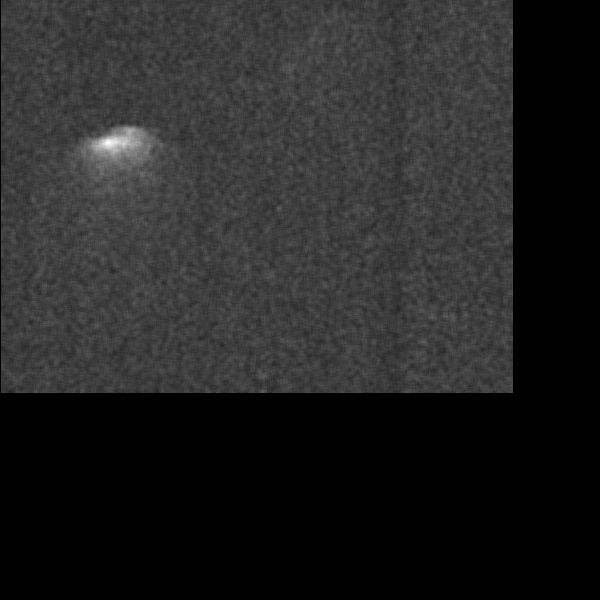spark: (73, 130, 159, 196), (277, 59, 302, 93)
